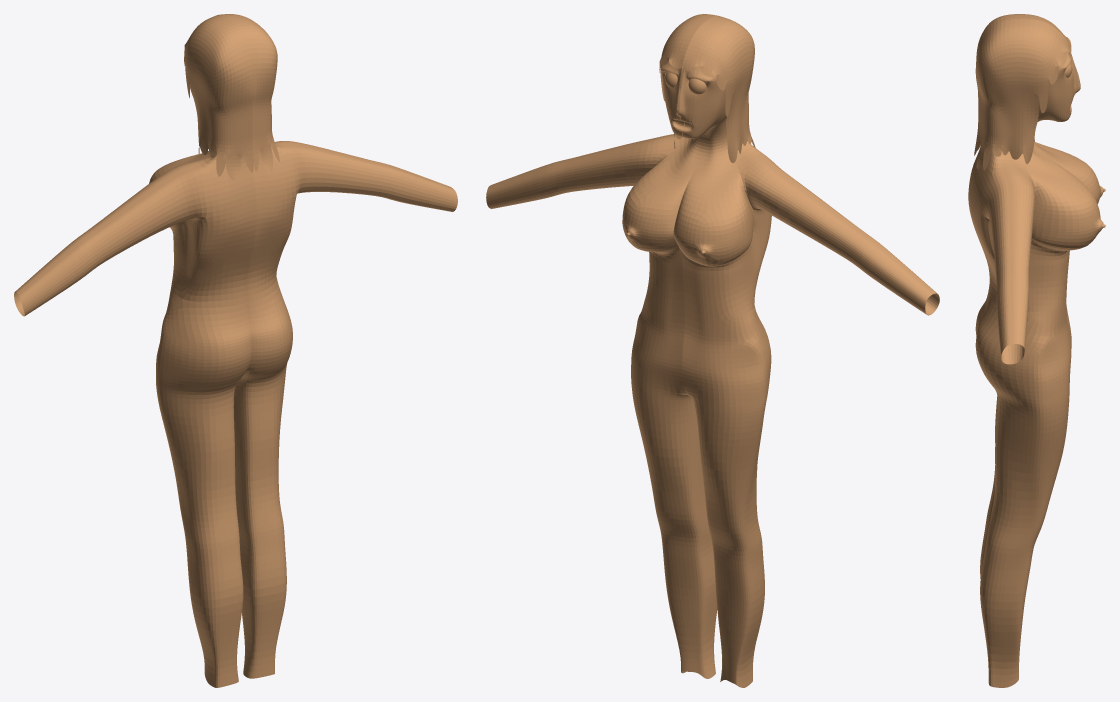
Rendered from mujer.fbx.
3 views of the same model, side by side, from view 1: azimuth 30°, elevation 25°; view 2: azimuth 150°, elevation 25°; view 3: azimuth 270°, elevation 25° (orthographic). The views are drawn at different scales.
Parts seen in each view (by area): view 1: Cube.001; view 2: Cube.001; view 3: Cube.001.
Part boxes in pixels (x1,y1,x2,y2): Cube.001: (14,14,457,687); Cube.001: (486,14,939,687); Cube.001: (968,14,1105,687).
Bounding box in the file's own units: 185 × 265 × 50.29.
